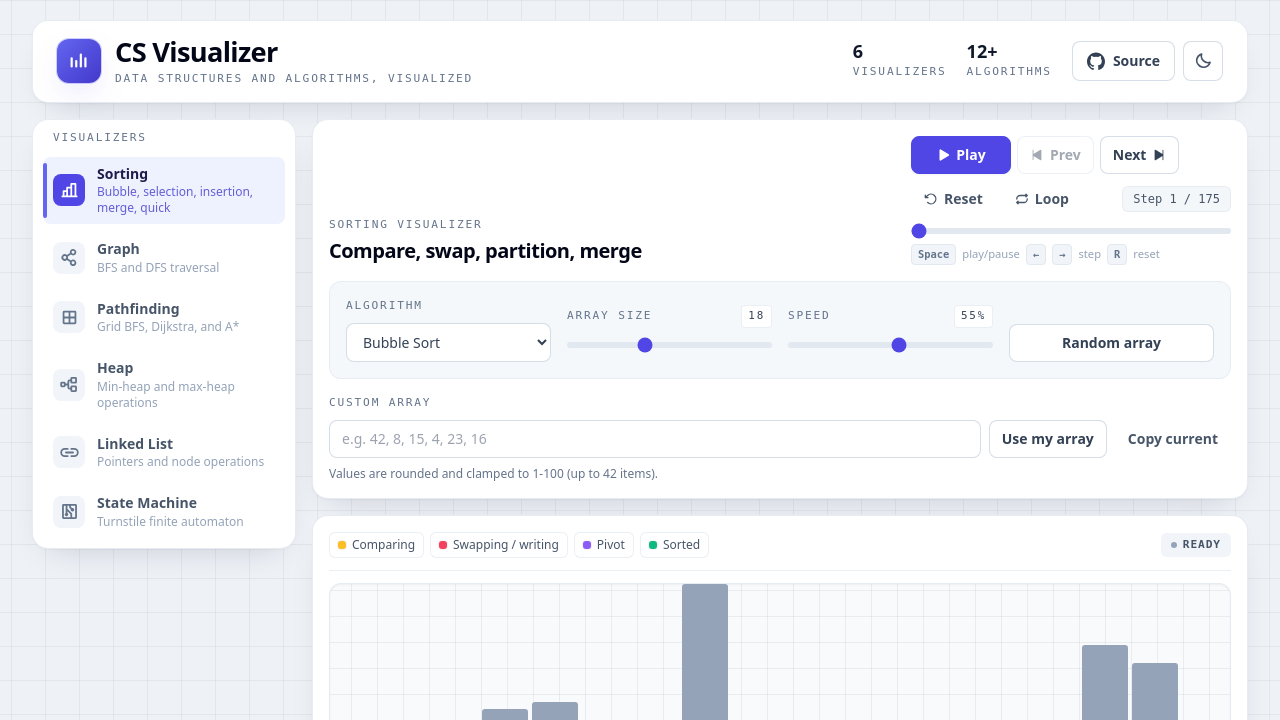
Test: App smoke test › switches to the pathfinding visualizer when its nav card is clicked
Click the button "Pathfinding Grid BFS, Dijkstra, and A*" at (164, 317), box [43,292,285,343]
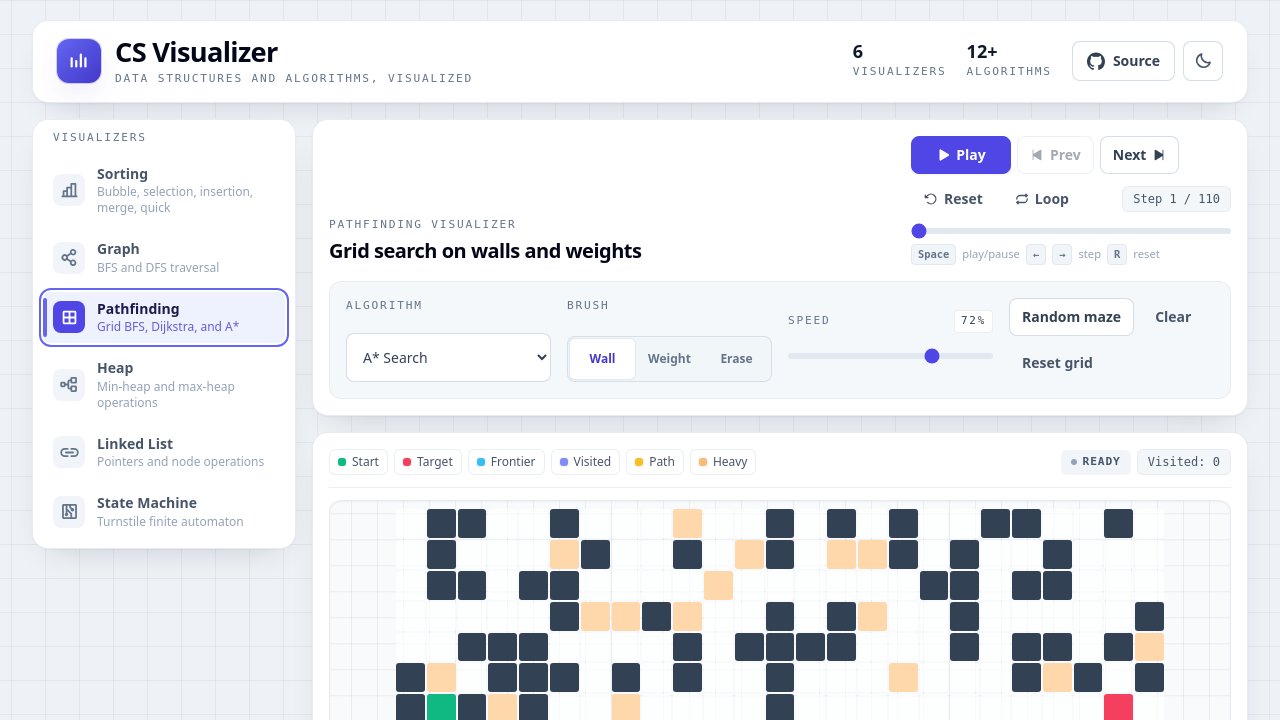
Expected: the heading "Grid search on walls and weights" is shown, [329,237,642,265]
